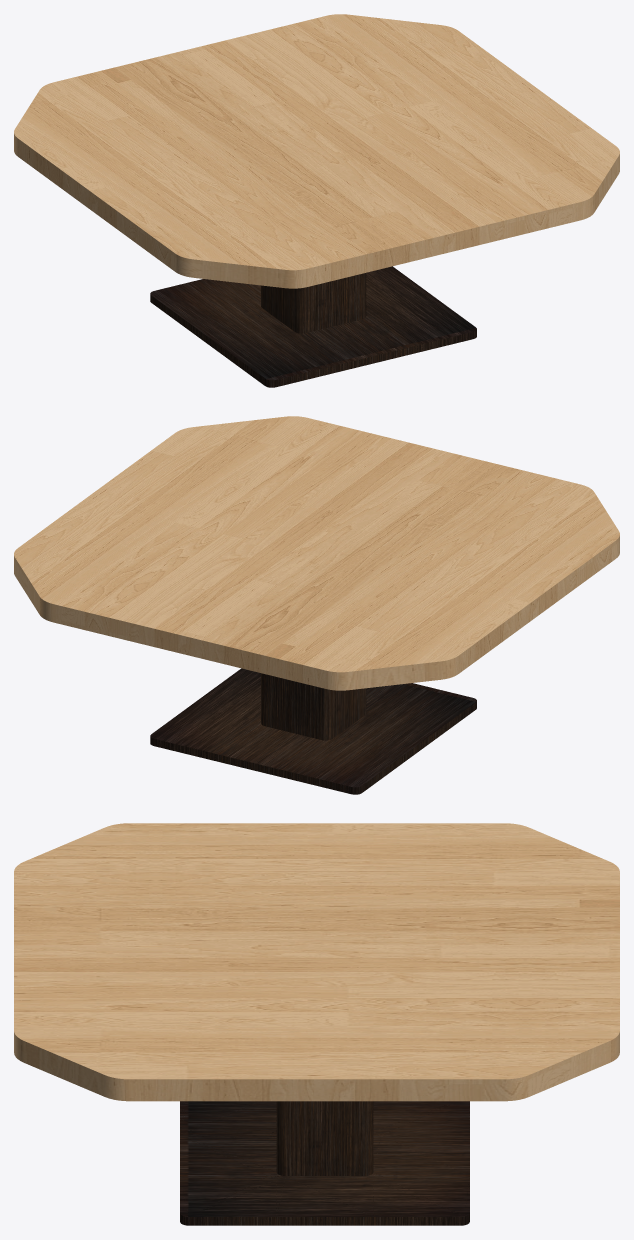
File: Bright Wood Table.fbx
3 renders of one model, top to bottom at view 1: azimuth 30°, elevation 25°; view 2: azimuth 150°, elevation 25°; view 3: azimuth 270°, elevation 25°, orthographic. The views are drawn at different scales.
Visible parts, largest first — view 1: pasted__pCube1, pCube1; view 2: pasted__pCube1, pCube1; view 3: pasted__pCube1, pCube1.
Boxes of the visible parts, x1,y1,x2,y2 form: pasted__pCube1: [14, 14, 619, 288]; pCube1: [150, 266, 476, 387]; pasted__pCube1: [14, 416, 619, 690]; pCube1: [150, 668, 476, 794]; pasted__pCube1: [14, 823, 619, 1101]; pCube1: [180, 1101, 469, 1225].
Size of the model in its own units: 6.27 by 2.43 by 6.27.
2 materials, 2 textured.
